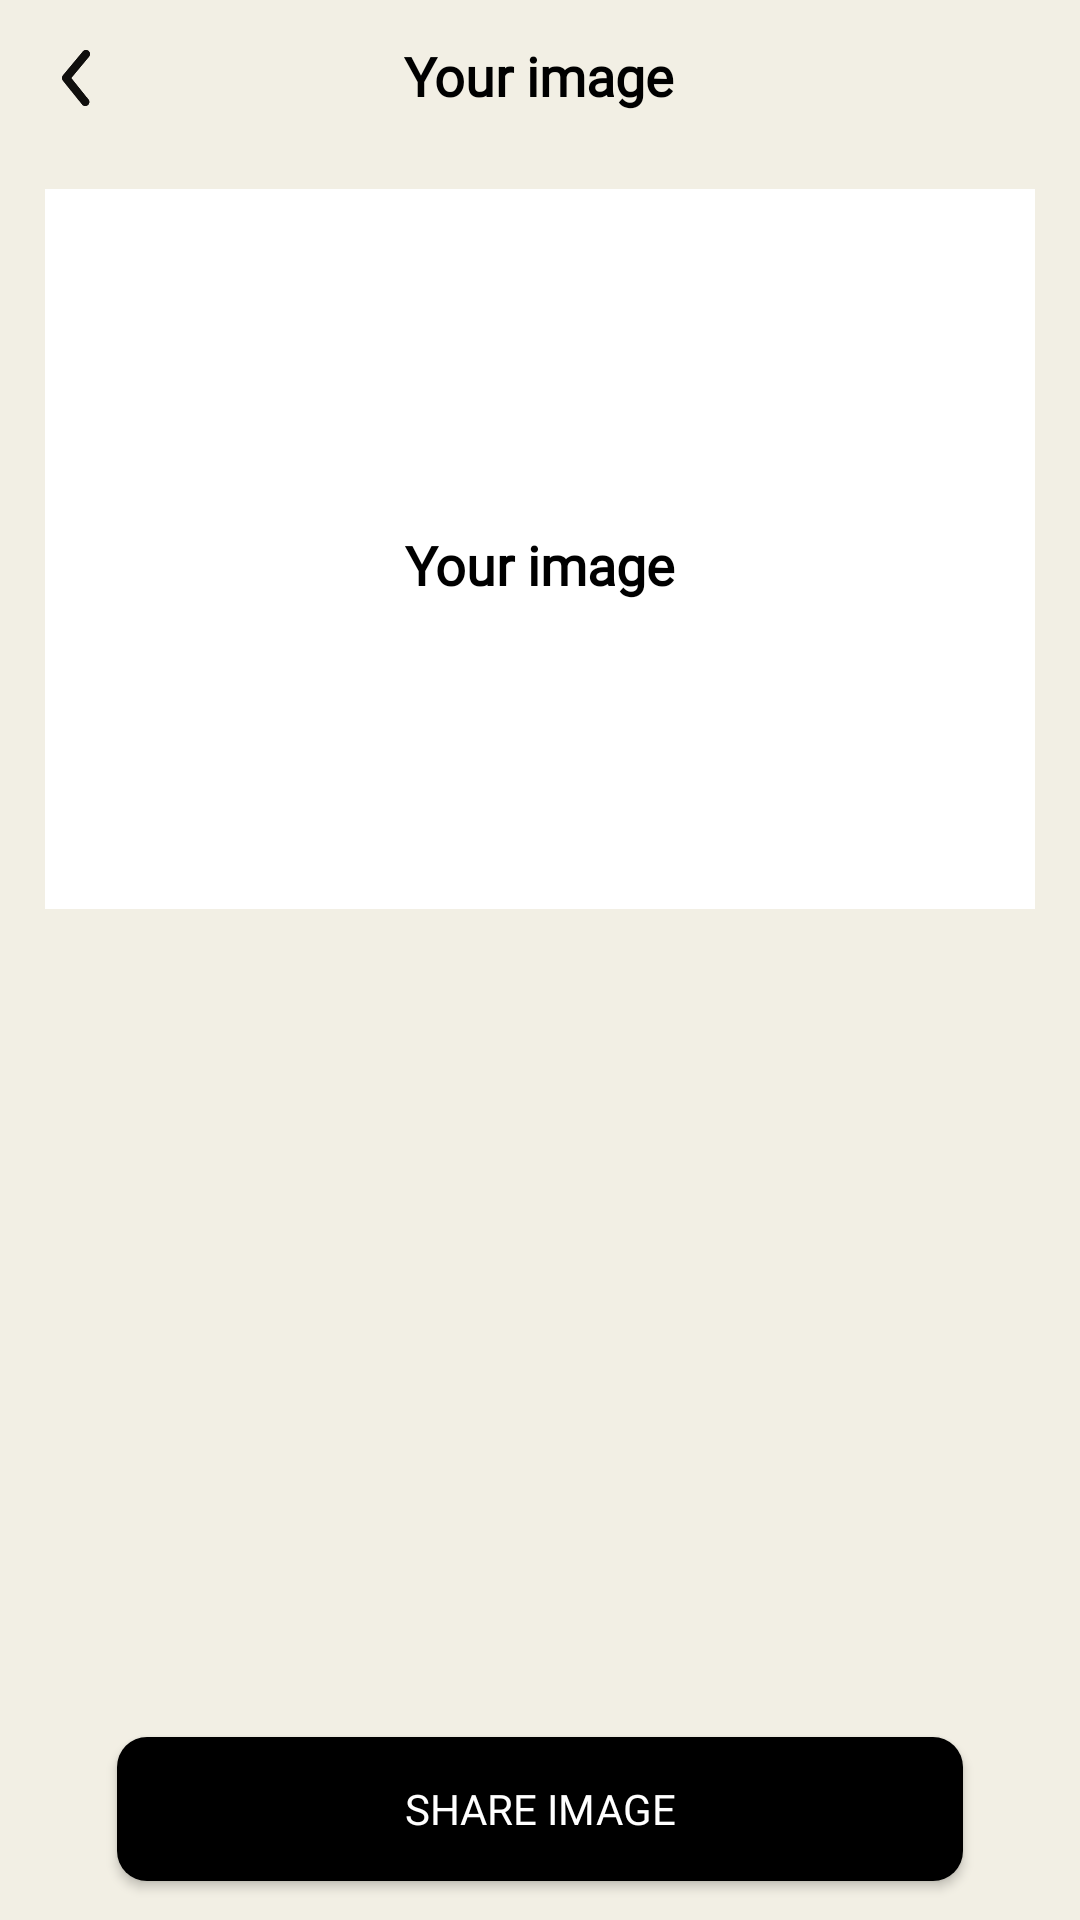

Where icons sit on this 1080px×1920px app screen, as box(x1, y1, x2, y2):
back: box(62, 50, 90, 106)
